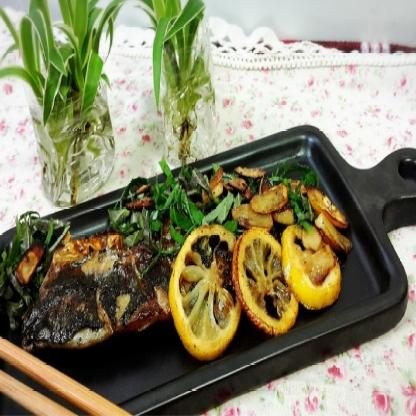Peixe: (0, 152, 352, 362)
